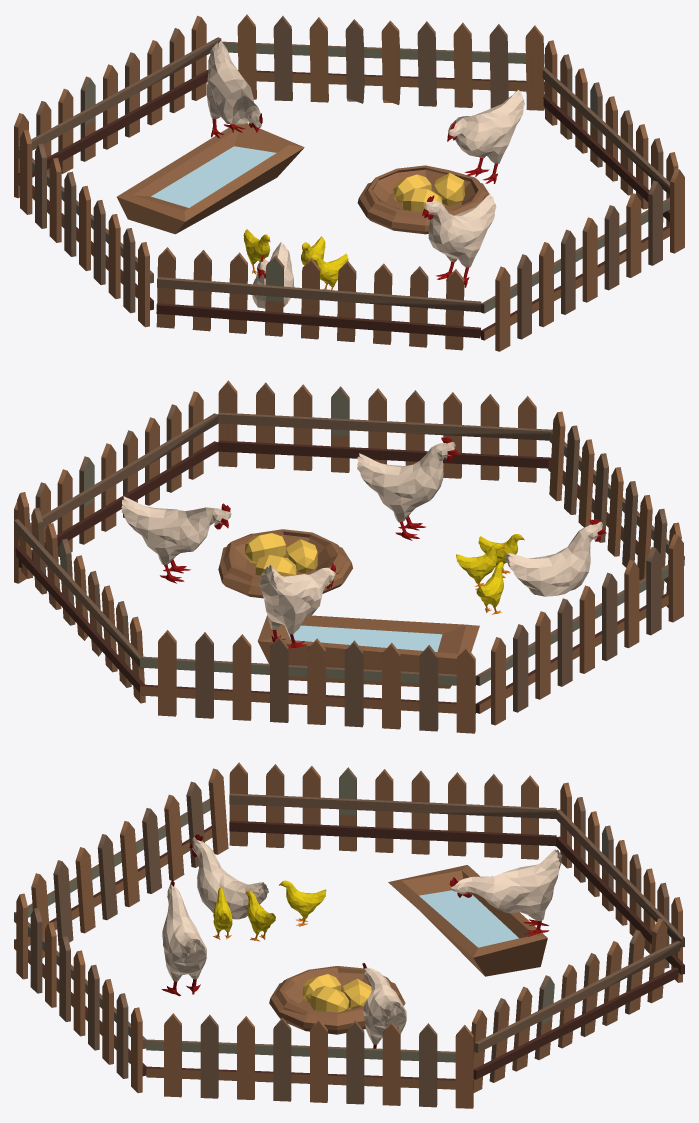
The model's file is SM_ENV_Hen_house.fbx.
The picture shows the model from 3 angles, top to bottom: view 1: azimuth 30°, elevation 25°; view 2: azimuth 150°, elevation 25°; view 3: azimuth 270°, elevation 25°; orthographic projection. The views are drawn at different scales.
Visible parts, largest first — view 1: SM_Hen_House; view 2: SM_Hen_House; view 3: SM_Hen_House.
Part boxes in pixels (x1,y1,x2,y2): SM_Hen_House: [14, 14, 684, 351]; SM_Hen_House: [14, 380, 684, 733]; SM_Hen_House: [14, 762, 684, 1108].
Size of the model in its own units: 3.06 by 0.6541 by 3.36.
